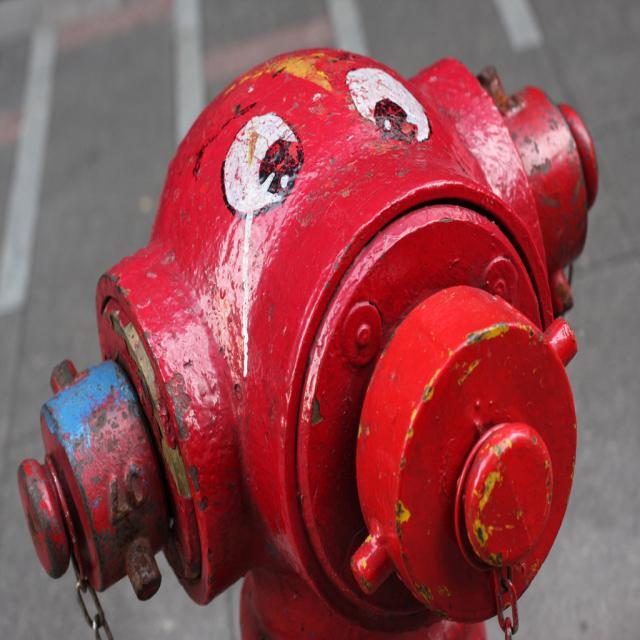fire_hydrant: (17, 46, 596, 640)
